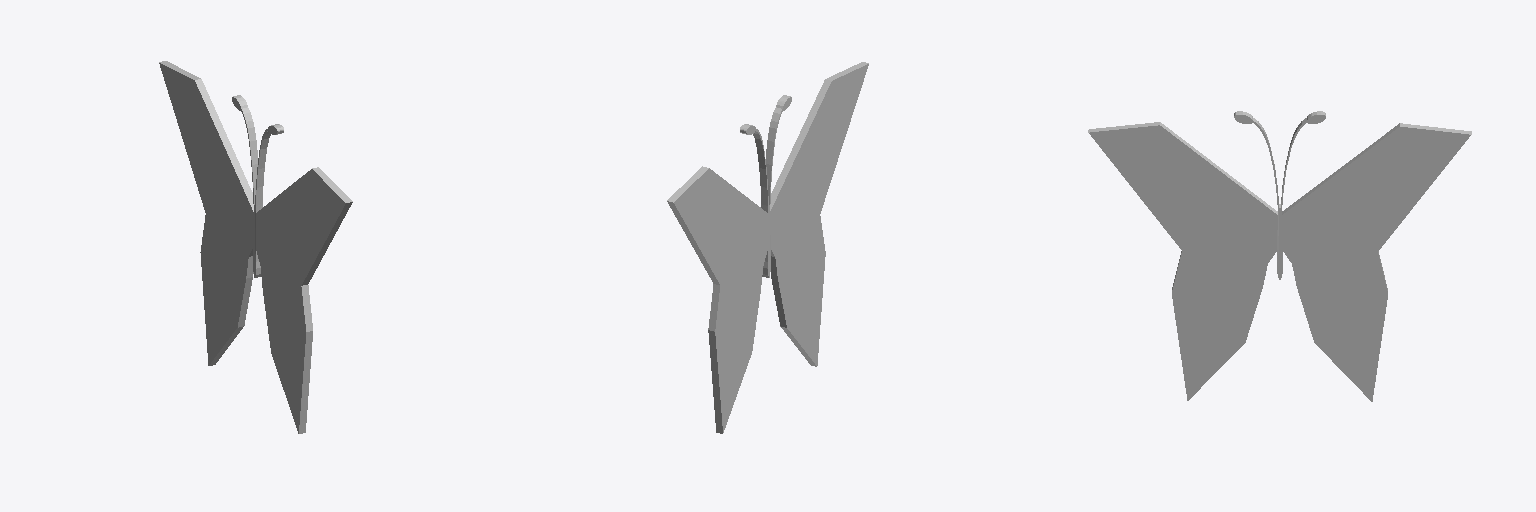
File: ButterflyNeutral.obj
The picture shows the model from 3 angles: view 1: azimuth 30°, elevation 25°; view 2: azimuth 150°, elevation 25°; view 3: azimuth 270°, elevation 25°; orthographic projection.
Parts seen in each view (by area): view 1: Plane.001; view 2: Plane.001; view 3: Plane.001.
Boxes of the visible parts, <box> form: Plane.001: <box>159,61,352,433</box>; Plane.001: <box>667,62,868,433</box>; Plane.001: <box>1088,111,1471,401</box>.
Bounding box in the file's own units: 0.1716 × 4.15 × 5.